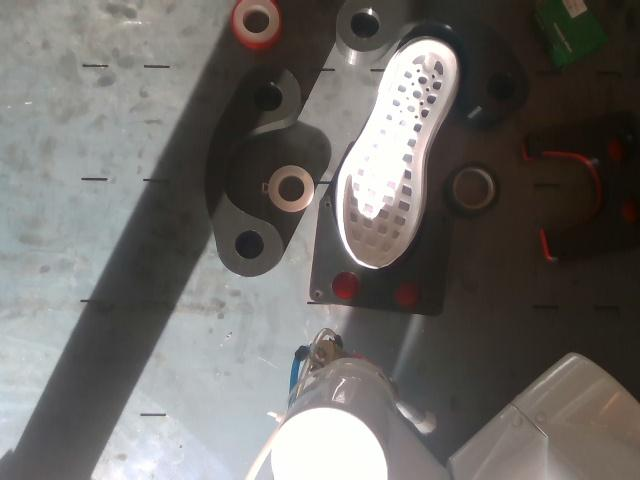shoes: (342, 40, 457, 267)
